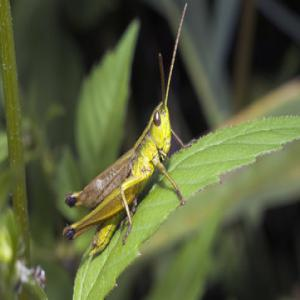locust: (52, 44, 214, 268)
